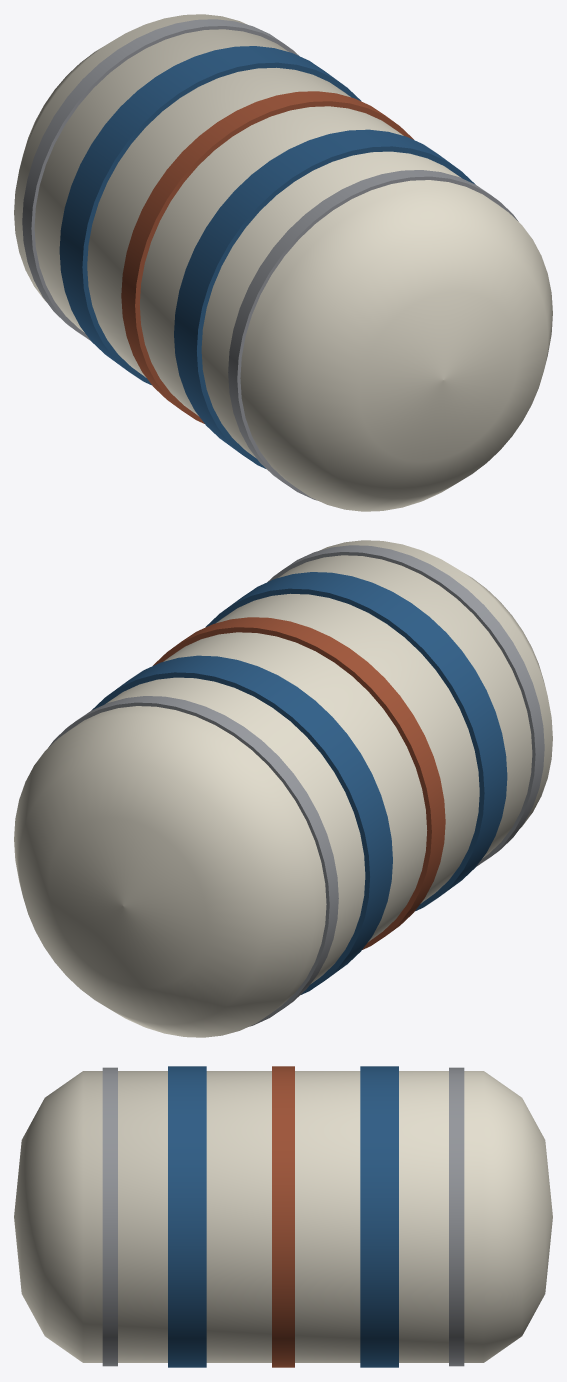
Rendered from jcharge_shell.obj.
3 views of the same model, one above another, from view 1: azimuth 30°, elevation 25°; view 2: azimuth 150°, elevation 25°; view 3: azimuth 270°, elevation 25° (orthographic). The views are drawn at different scales.
Parts seen in each view (by area): view 1: jcharge_shell; view 2: jcharge_shell; view 3: jcharge_shell.
Boxes of the visible parts, box(x1,y1,x2,y2) form: jcharge_shell: box(14, 14, 552, 511); jcharge_shell: box(14, 540, 552, 1037); jcharge_shell: box(14, 1066, 552, 1367).
Size of the model in its own units: 0.784 by 0.784 by 1.4.
